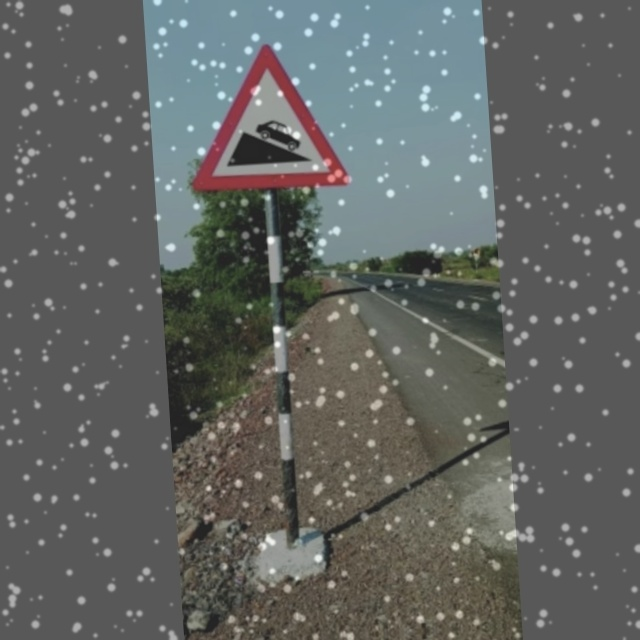Steep_Descent: (189, 42, 349, 201)
